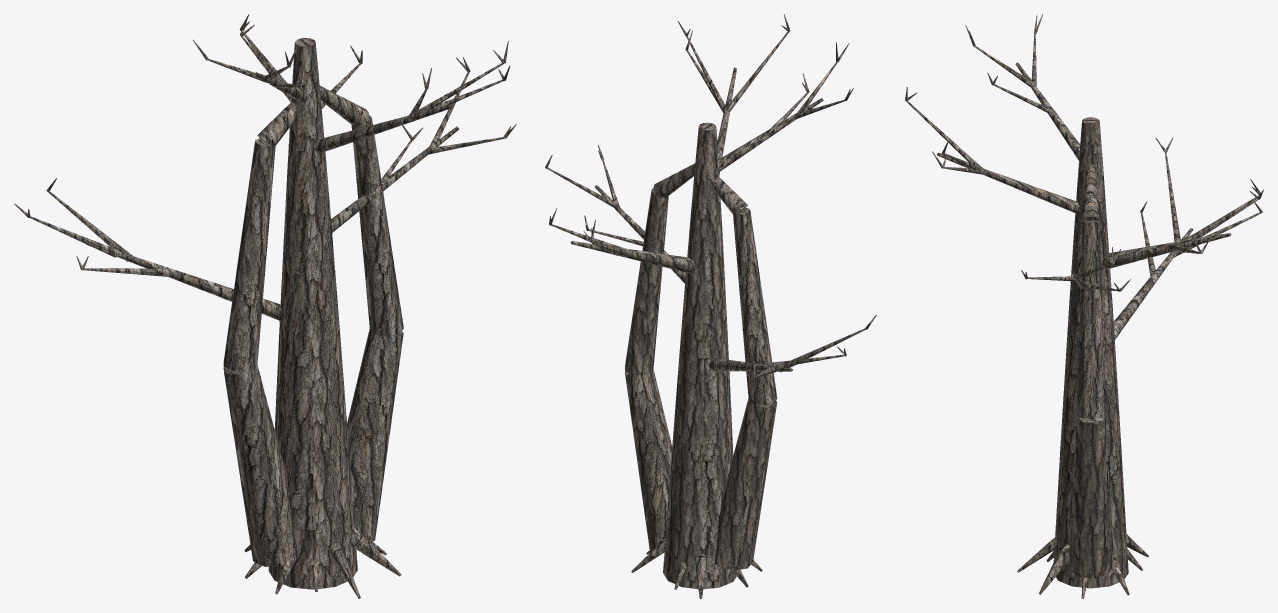
Rendered from root-arch-v02.glb.
The picture shows the model from 3 angles, left to right: view 1: azimuth 30°, elevation 25°; view 2: azimuth 150°, elevation 25°; view 3: azimuth 270°, elevation 25°; orthographic projection. The views are drawn at different scales.
Parts seen in each view (by area): view 1: dead-tree-arch; view 2: dead-tree-arch; view 3: dead-tree-arch.
Boxes of the visible parts, x1=… form: dead-tree-arch: x1=14, y1=14, x2=516, y2=598; dead-tree-arch: x1=545, y1=14, x2=876, y2=598; dead-tree-arch: x1=905, y1=14, x2=1263, y2=598.
Bounding box in the file's own units: 6.31 × 8.58 × 5.5.
1 material, 1 textured.
